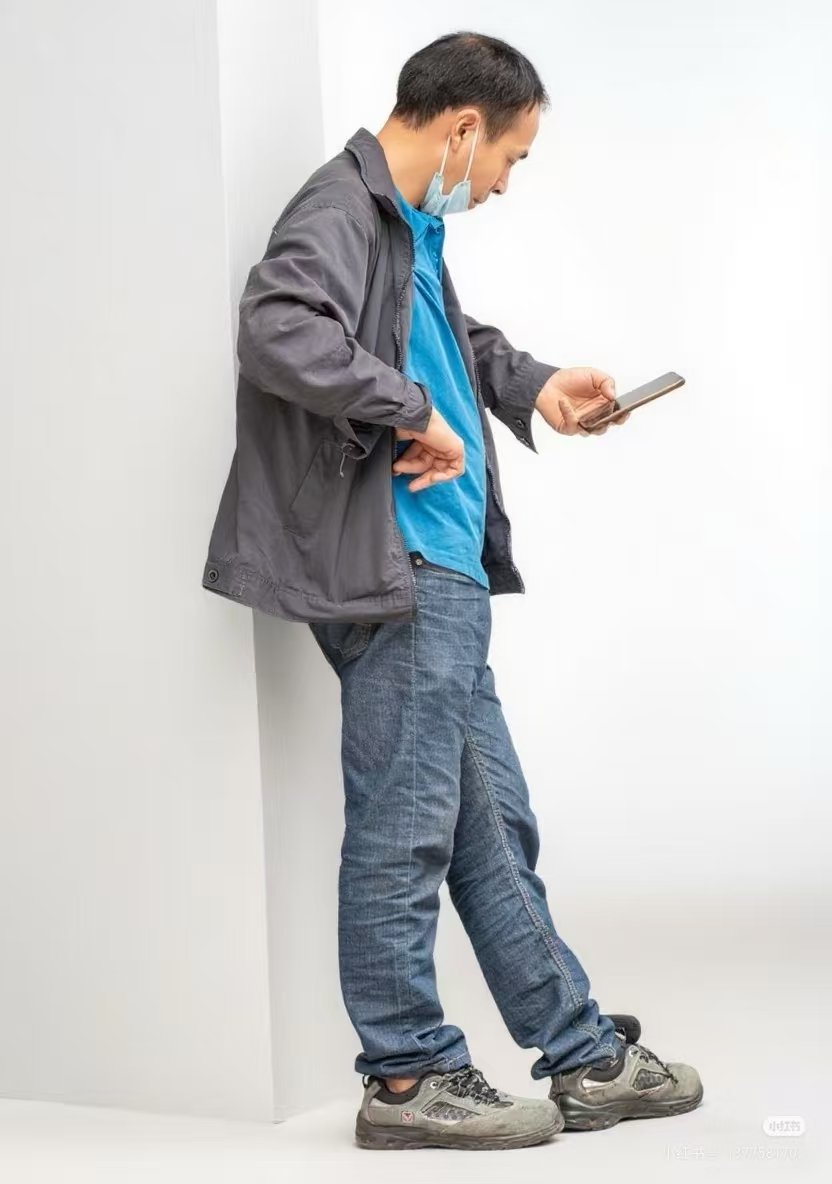up: (164, 25, 749, 1157)
